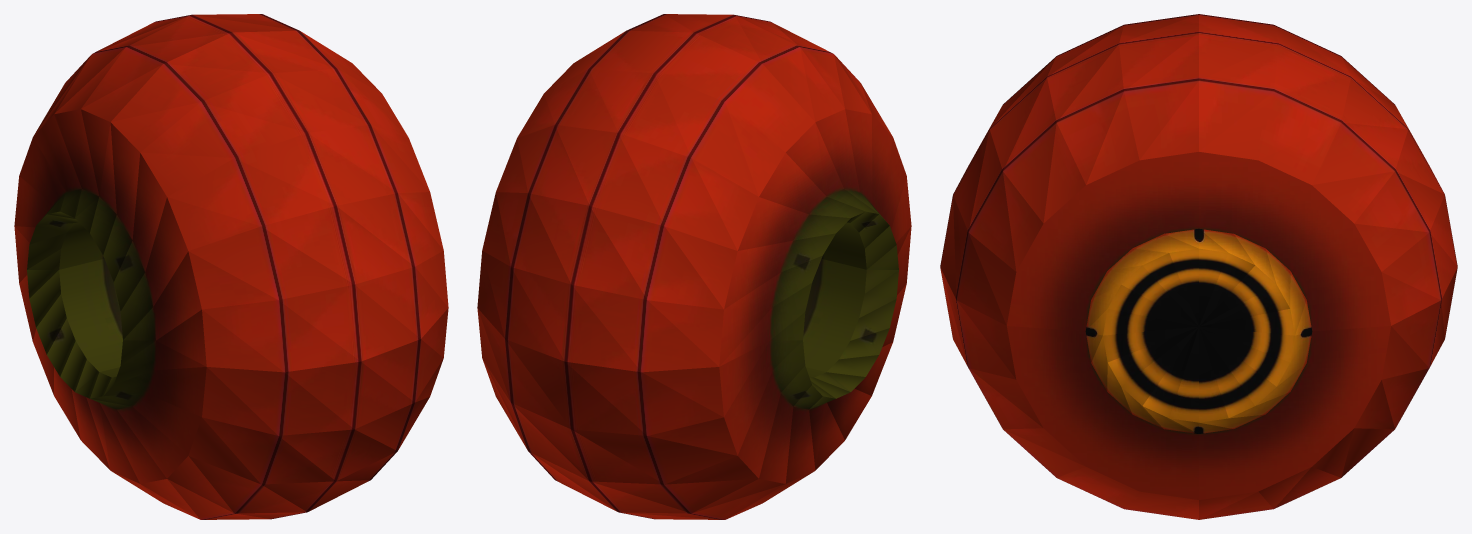
File: wheel-transformed.glb
3 renders of one model, left to right at view 1: azimuth 30°, elevation 25°; view 2: azimuth 150°, elevation 25°; view 3: azimuth 270°, elevation 25°, orthographic.
Visible parts, largest first — view 1: wheel_3; view 2: wheel_3; view 3: wheel_3.
Boxes of the visible parts, bbox=[...] form: wheel_3: bbox=[14, 14, 448, 519]; wheel_3: bbox=[477, 14, 911, 519]; wheel_3: bbox=[940, 14, 1457, 519].
Bounding box in the file's own units: 0.2436 × 0.3672 × 0.3673.
Materials: 1 (1 with a texture image).
